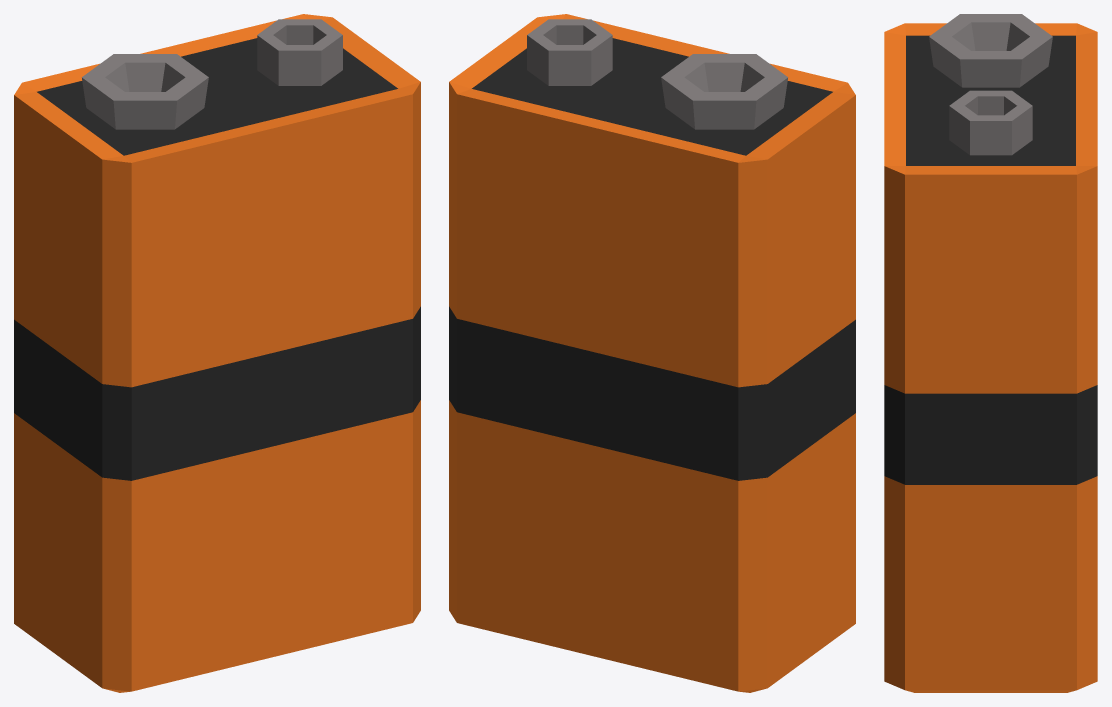
The model's file is battery-9v.glb.
The picture shows the model from 3 angles, left to right: view 1: azimuth 30°, elevation 25°; view 2: azimuth 150°, elevation 25°; view 3: azimuth 270°, elevation 25°; orthographic projection. The views are drawn at different scales.
Visible parts, largest first — view 1: battery-9v; view 2: battery-9v; view 3: battery-9v.
Part boxes in pixels (<box>): battery-9v: <box>14,14,420,692</box>; battery-9v: <box>449,14,855,692</box>; battery-9v: <box>884,14,1097,692</box>.
Bounding box in the file's own units: 0.03 × 0.0518 × 0.0179.
1 material, 1 textured.
